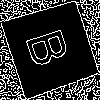B: (25, 23, 80, 69)
